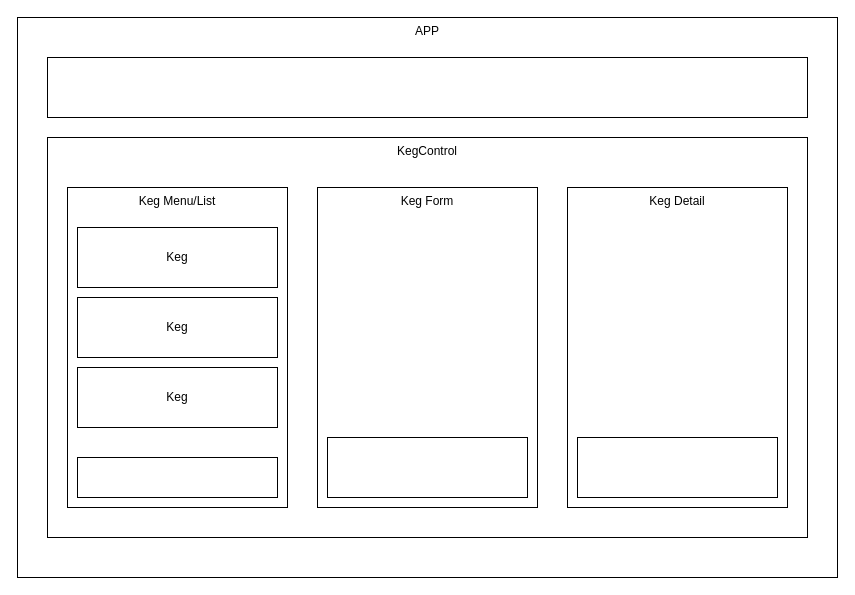
This 855x595 diagram has some shape labels left out. The centre of each missing label's shape, as x and y in pixels:
Add Keg: point 177,477
Header: point 427,87
Submit: point 427,467
Update/Delete: point 677,467
